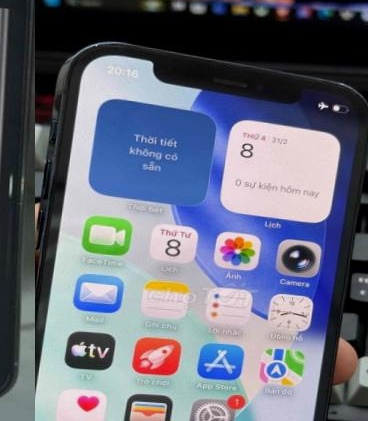screen_defect: (0, 0, 35, 22)
